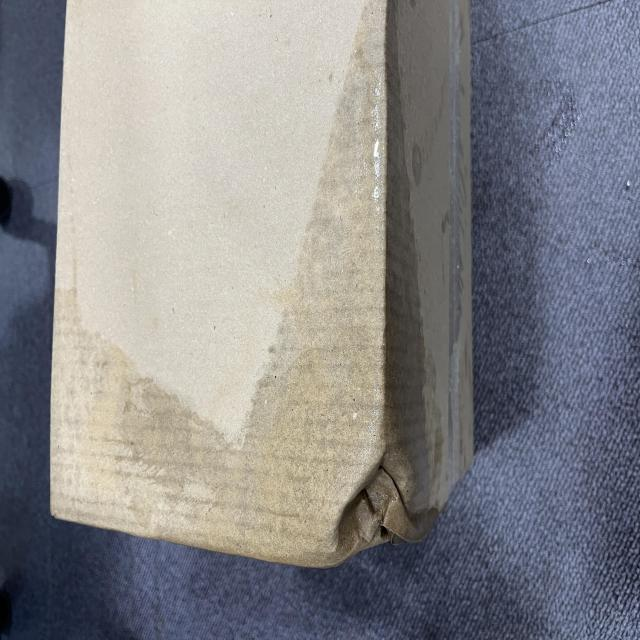wet: (71, 72, 477, 587)
